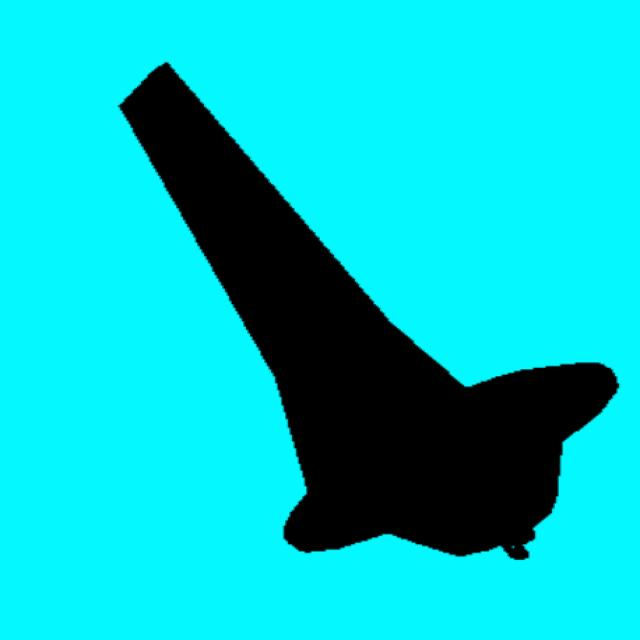BlackBuoy: (119, 64, 617, 559)
